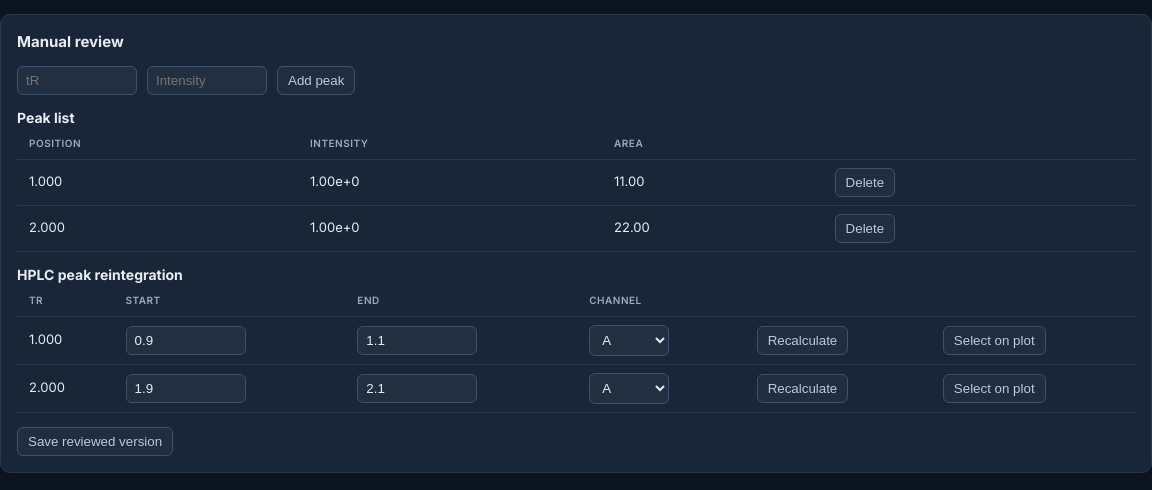
Test case: manual recalculation ownership › announces HPLC recalculation failures and allows retry
Click the 1st button "Recalculate" at point(802, 340), box [757,326,848,354]
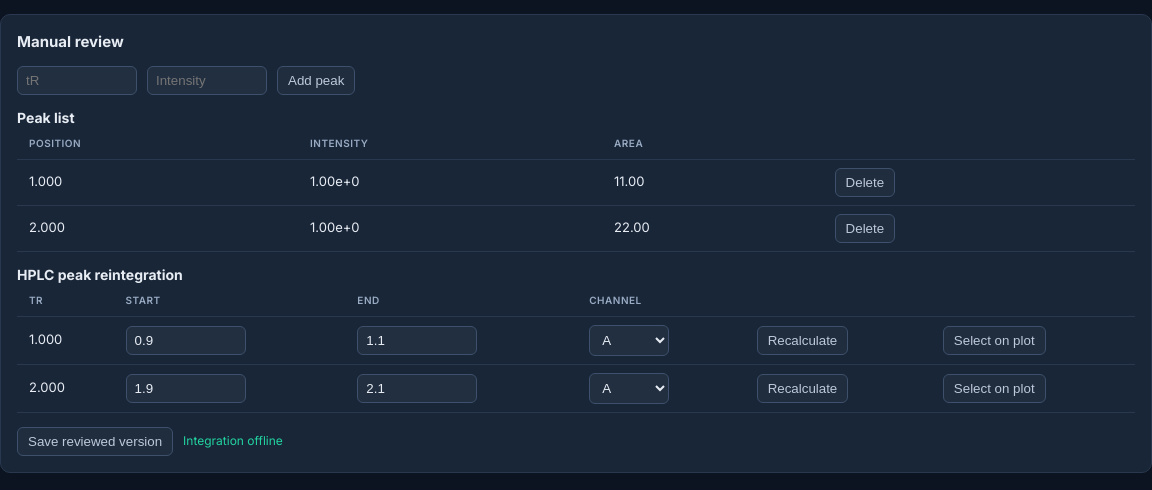
Expected: the message reads "Integration offline", [183,433,283,448]
Click the 1st button "Recalculate" at point(802, 340), box [757,326,848,354]
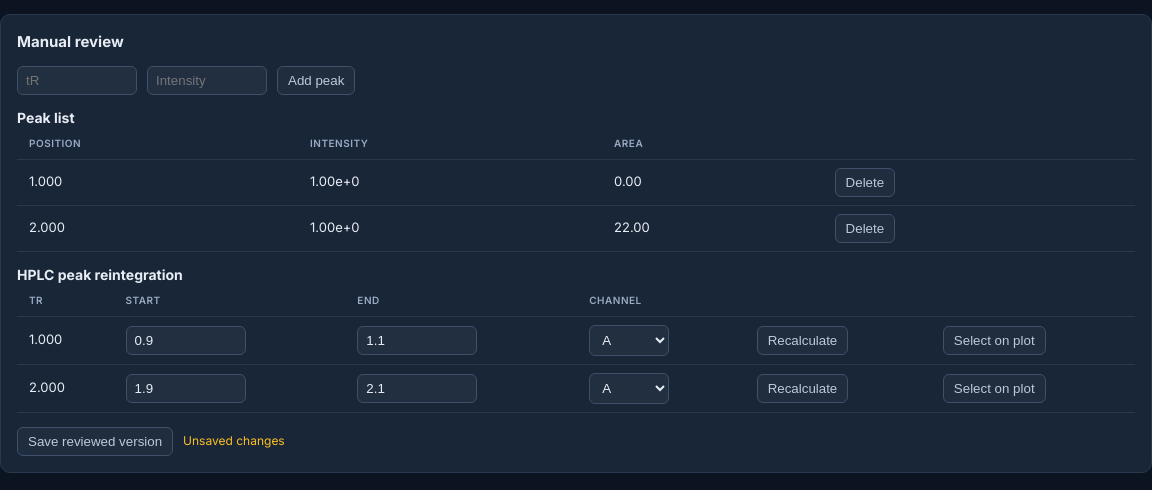
Expected: the text "Integration offline" is gone
